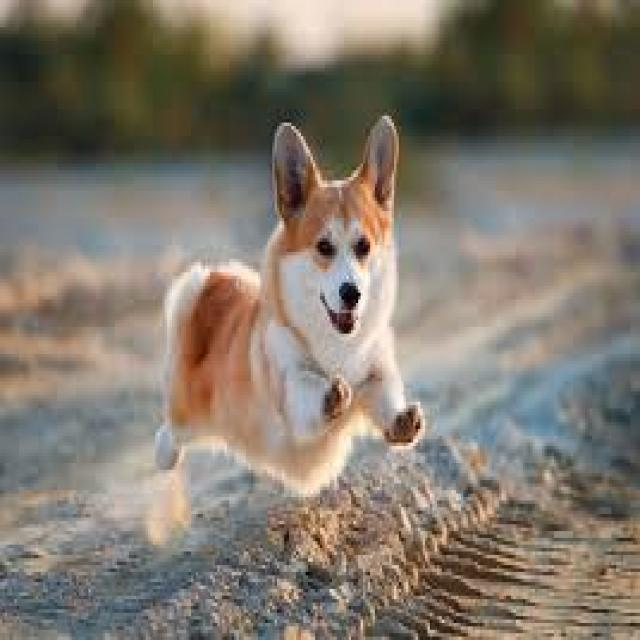CORGI: (142, 89, 427, 485)
